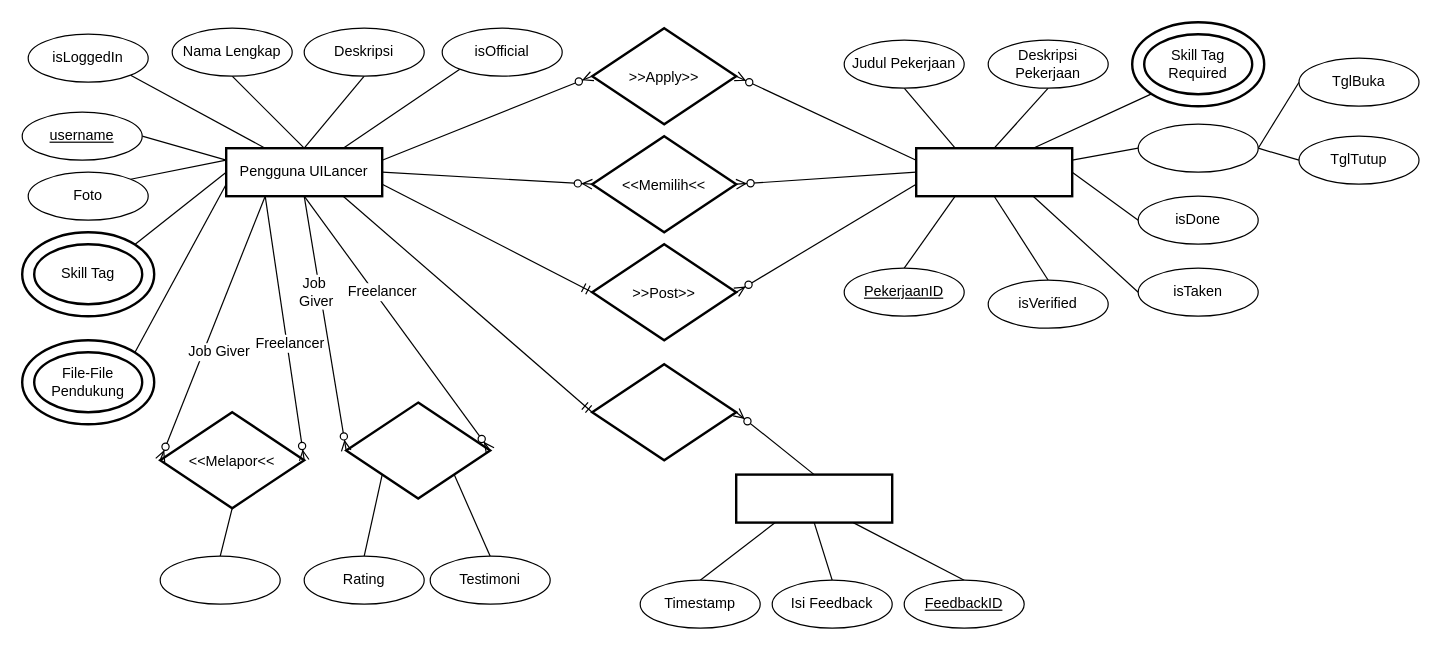
Image size: 1440x649. Some labels were removed from this diagram. Each missing label, with the centre of its shape:
>>Memberikan>>: (x=663, y=411)
>>Menilai>>: (x=417, y=450)
Feedback Web UILancer: (x=813, y=498)
Isi Laporan: (x=219, y=579)
Pekerjaan: (x=993, y=171)
Tanggal: (x=1197, y=147)
